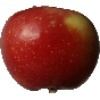apple: (1, 6, 100, 91)
